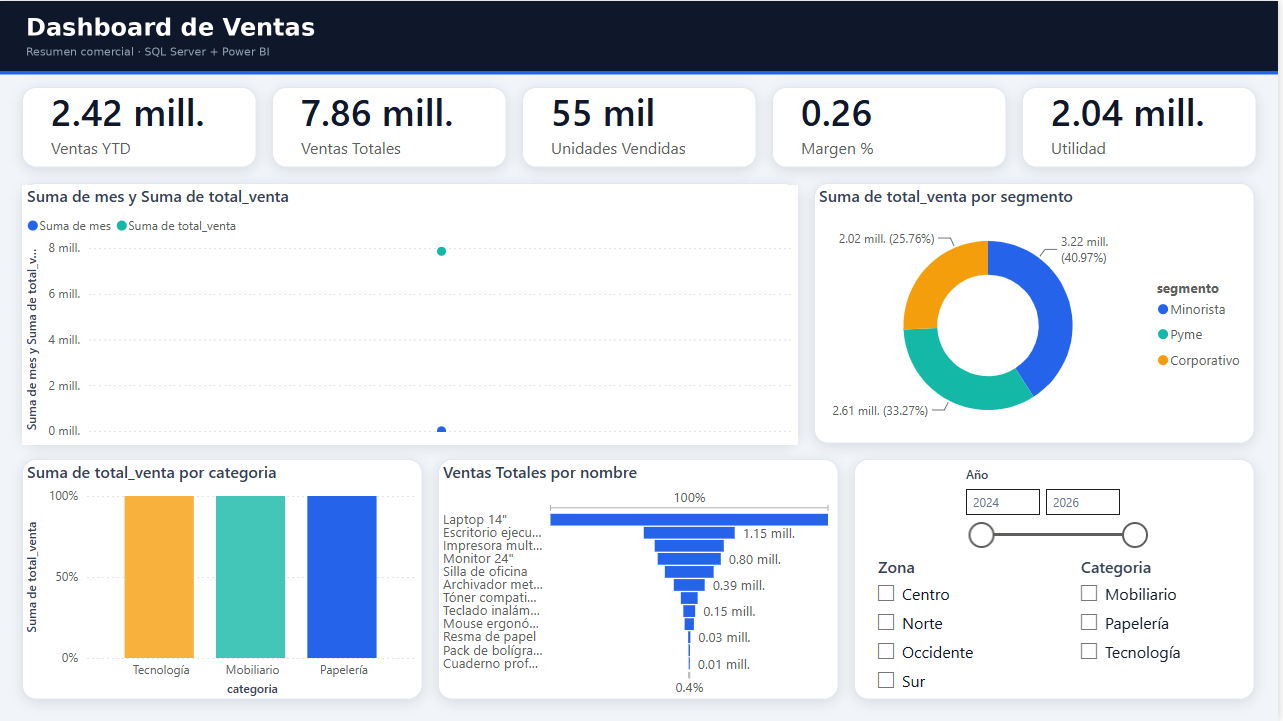

The dashboard page shown, as its layout file describes it:
{"tool":"powerbi","page":{"name":"Página 1","canvas":[1280,720],"ordinal":0},"visuals":[{"type":"cardVisual","title":"Ventas YTD","fields":{"Data":["Medidas.Ventas YTD"]},"box":[24,65,234,112],"z":0},{"type":"cardVisual","fields":{"Data":["Medidas.Ventas Totales"]},"box":[274,65,234,112],"z":1000},{"type":"cardVisual","fields":{"Data":["Medidas.Margen %"]},"box":[774,65,234,112],"z":2000},{"type":"cardVisual","fields":{"Data":["Medidas.Utilidad"]},"box":[1024,65,234,112],"z":3000},{"type":"cardVisual","fields":{"Data":["Medidas.Unidades Vendidas"]},"box":[524,65,235,112],"z":4000},{"type":"lineChart","fields":{"Y":["Sum(dim_fecha.mes)","Sum(fact_ventas.total_venta)"]},"box":[24,184,776,260],"z":5000},{"type":"donutChart","fields":{"Y":["Sum(fact_ventas.total_venta)"],"Category":["dim_cliente.segmento"]},"box":[816,184,440,260],"z":6000},{"type":"hundredPercentStackedColumnChart","fields":{"Category":["dim_producto.categoria"],"Y":["Sum(fact_ventas.total_venta)"]},"box":[24,460,400,240],"z":7000},{"type":"funnel","fields":{"Category":["dim_producto.nombre"],"Y":["Medidas.Ventas Totales"]},"box":[440,460,400,240],"z":8000},{"type":"slicer","fields":{"Values":["dim_fecha.anio"]},"box":[955,460,203,90],"z":8001},{"type":"slicer","fields":{"Values":["dim_vendedor.zona"]},"box":[867,550,203,150],"z":8002},{"type":"slicer","fields":{"Values":["dim_producto.categoria"]},"box":[1070,550,186,150],"z":8003}]}

Visuals, with their boxes in screenshot pixels (x1, y1, x2, y2), scaled from the page's 1280x720 canvas onto the 1283x721 screenshot:
"Ventas YTD" cardVisual: Rect(24, 65, 259, 177)
cardVisual - Medidas.Ventas Totales: Rect(275, 65, 509, 177)
cardVisual - Medidas.Margen %: Rect(776, 65, 1010, 177)
cardVisual - Medidas.Utilidad: Rect(1026, 65, 1261, 177)
cardVisual - Medidas.Unidades Vendidas: Rect(525, 65, 761, 177)
lineChart - Sum(dim_fecha.mes) x Sum(fact_ventas.total_venta): Rect(24, 184, 802, 445)
donutChart - Sum(fact_ventas.total_venta) x dim_cliente.segmento: Rect(818, 184, 1259, 445)
hundredPercentStackedColumnChart - dim_producto.categoria x Sum(fact_ventas.total_venta): Rect(24, 461, 425, 701)
funnel - dim_producto.nombre x Medidas.Ventas Totales: Rect(441, 461, 842, 701)
slicer - dim_fecha.anio: Rect(957, 461, 1161, 551)
slicer - dim_vendedor.zona: Rect(869, 551, 1073, 701)
slicer - dim_producto.categoria: Rect(1073, 551, 1259, 701)
